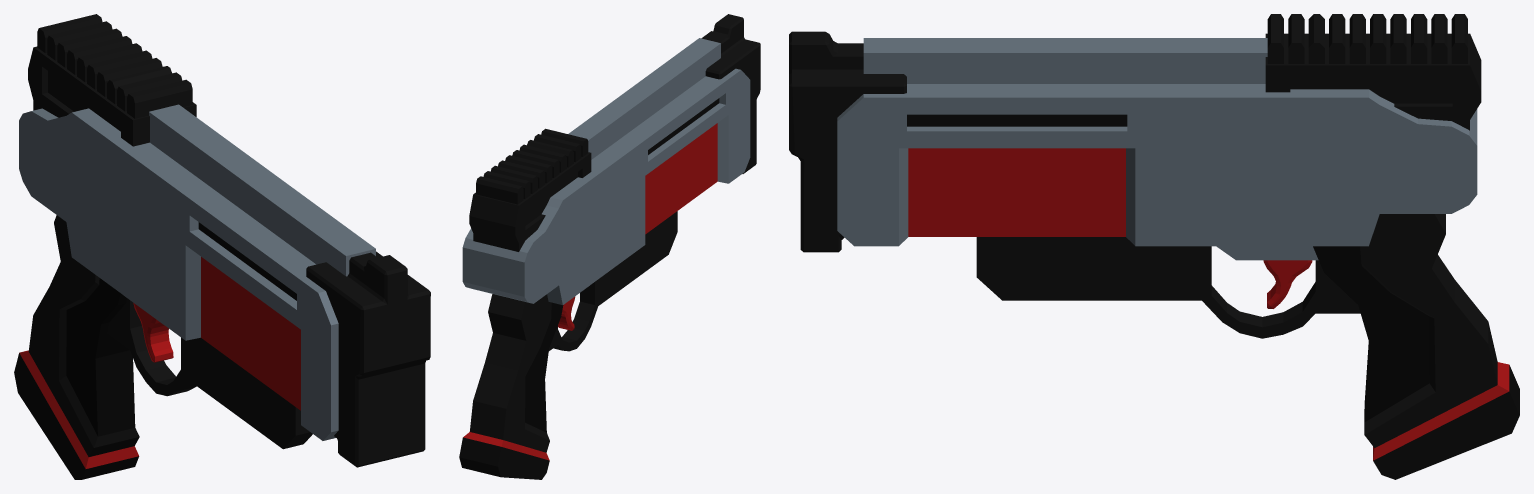
The model's file is Pistol.FBX.
3 renders of one model, left to right at view 1: azimuth 30°, elevation 25°; view 2: azimuth 150°, elevation 25°; view 3: azimuth 270°, elevation 25°, orthographic. The views are drawn at different scales.
Parts seen in each view (by area): view 1: Pistol; view 2: Pistol; view 3: Pistol.
Part boxes in pixels (x1=…): Pistol: x1=14, y1=14, x2=430, y2=479; Pistol: x1=459, y1=14, x2=760, y2=479; Pistol: x1=789, y1=14, x2=1519, y2=479.
Size of the model in its own units: 0.1906 by 0.9097 by 1.38.
